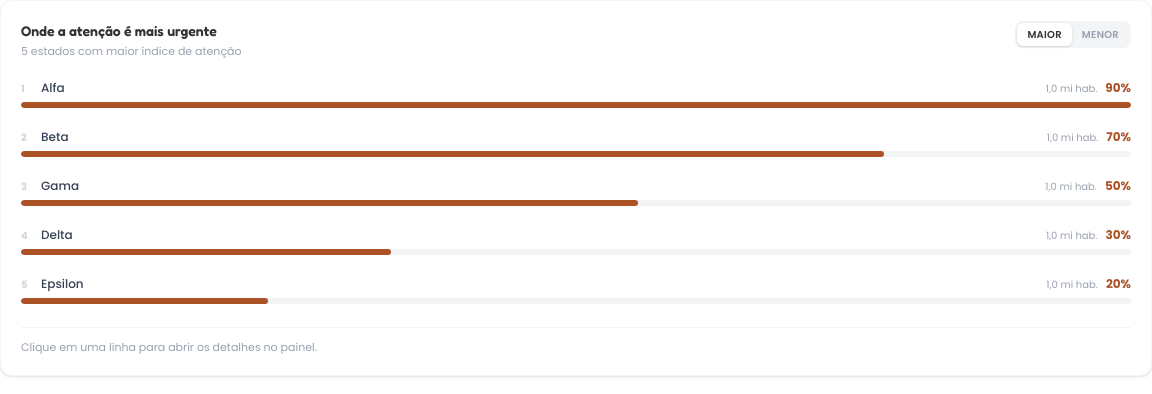
RankingBars › o alternador "Menor" inverte a lista
Click the button "Menor" at (1100, 34), box [1072,23,1129,46]
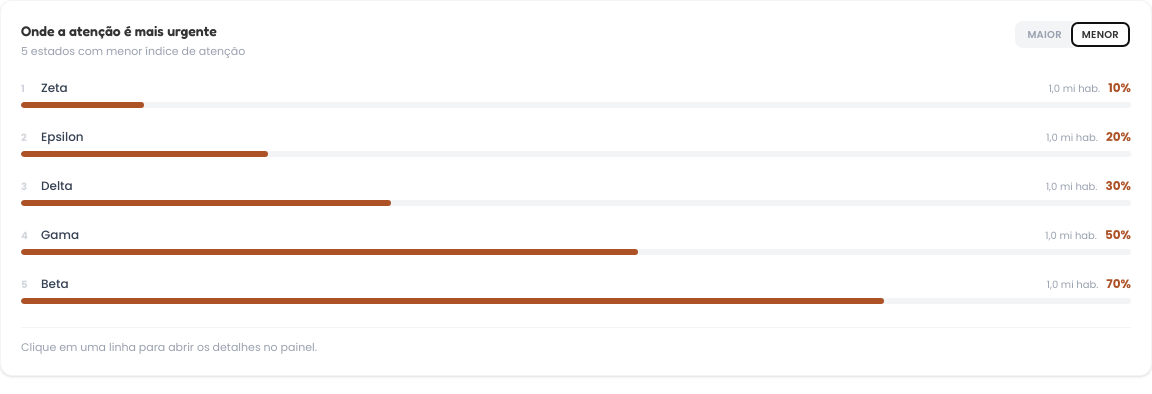
Now the text "5 estados com menor índice de atenção" is shown, box [21,43,245,60]
